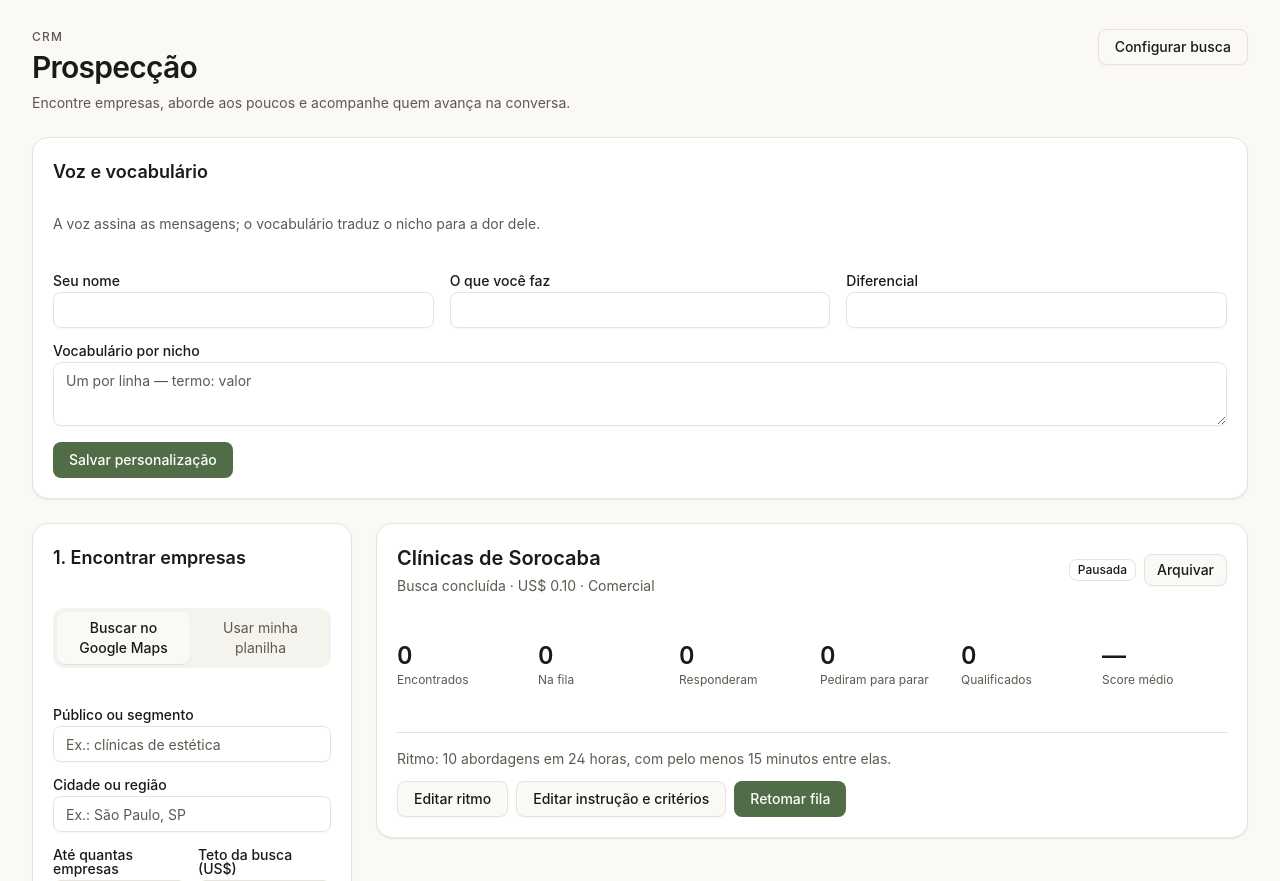
Test: o formulário nasce com o texto gravado e só salva depois de confirmar › texto abaixo do piso não deixa salvar — o servidor recusaria com 422
Click the button "Editar instrução e critérios".
click(621, 799)  # box [516, 781, 726, 817]
(page scrolled)
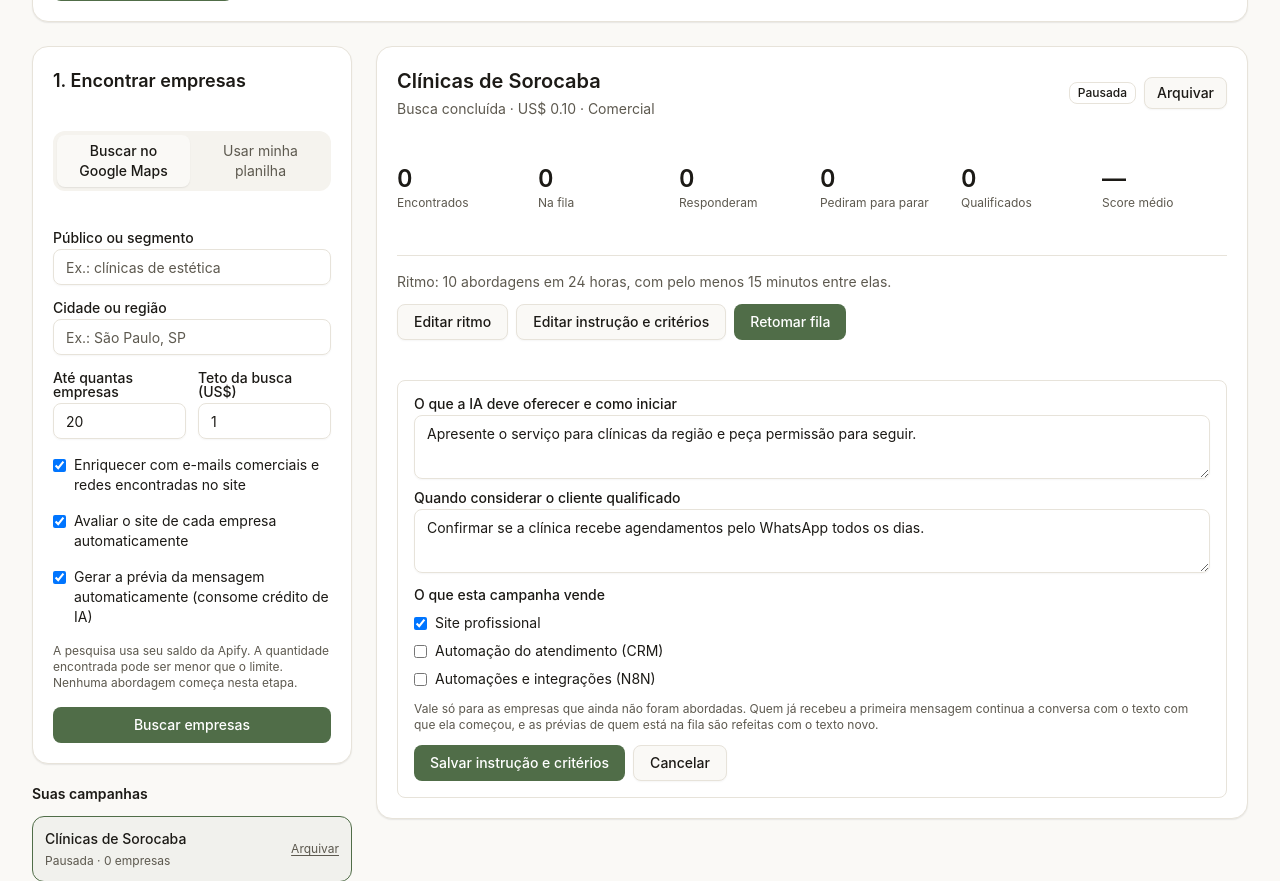
Replace the text in the text box showing "Apresente o serviço para clínicas da região e peça permissão para seguir." with "ok" at (812, 447), box [414, 415, 1210, 479]
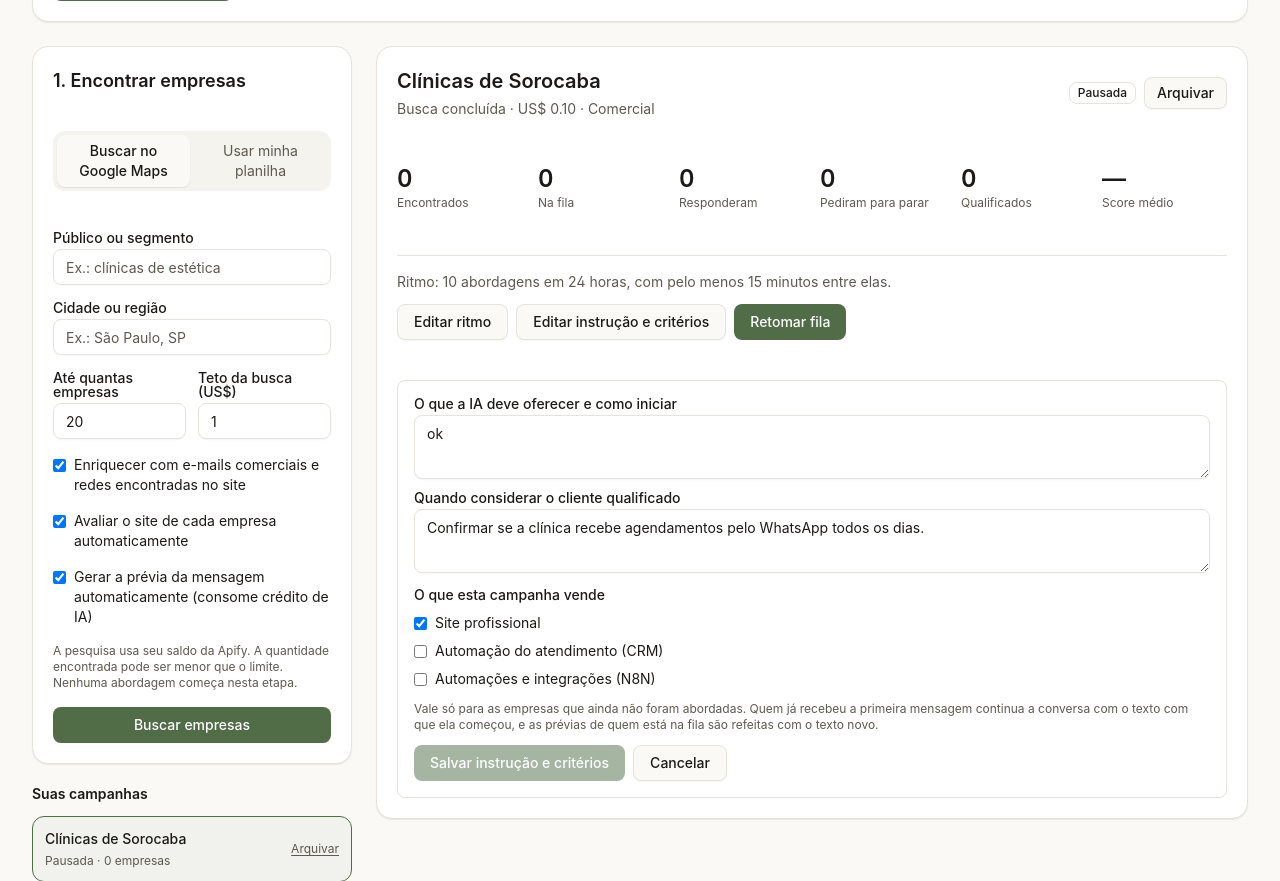
expect the button "Salvar instrução e critérios" is disabled: met, box [414, 745, 625, 781]
